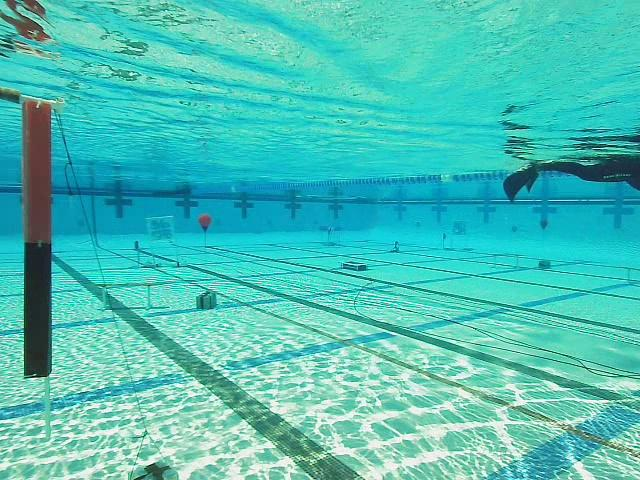buoy: (198, 214, 212, 234)
dropper: (340, 260, 369, 272)
gate_leg_r: (22, 94, 59, 380)
torpedo: (145, 216, 175, 243)
